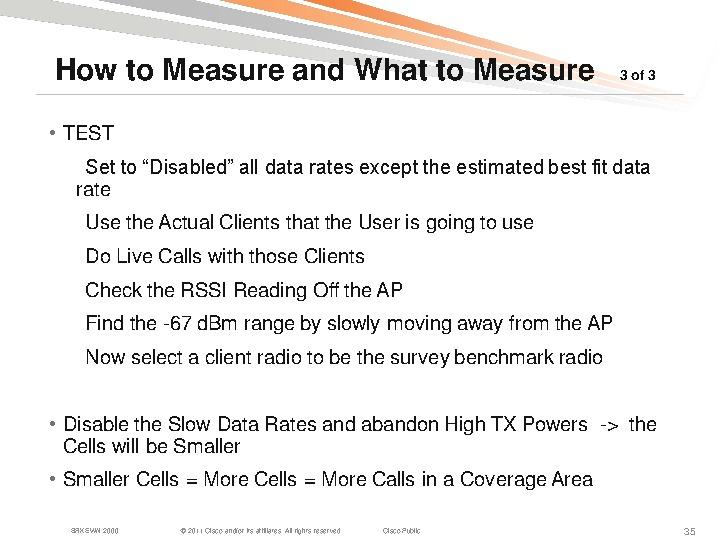paragraph: (41, 115, 703, 498)
subtitle: (51, 517, 499, 539), (63, 118, 129, 147)
title: (40, 44, 614, 105)
